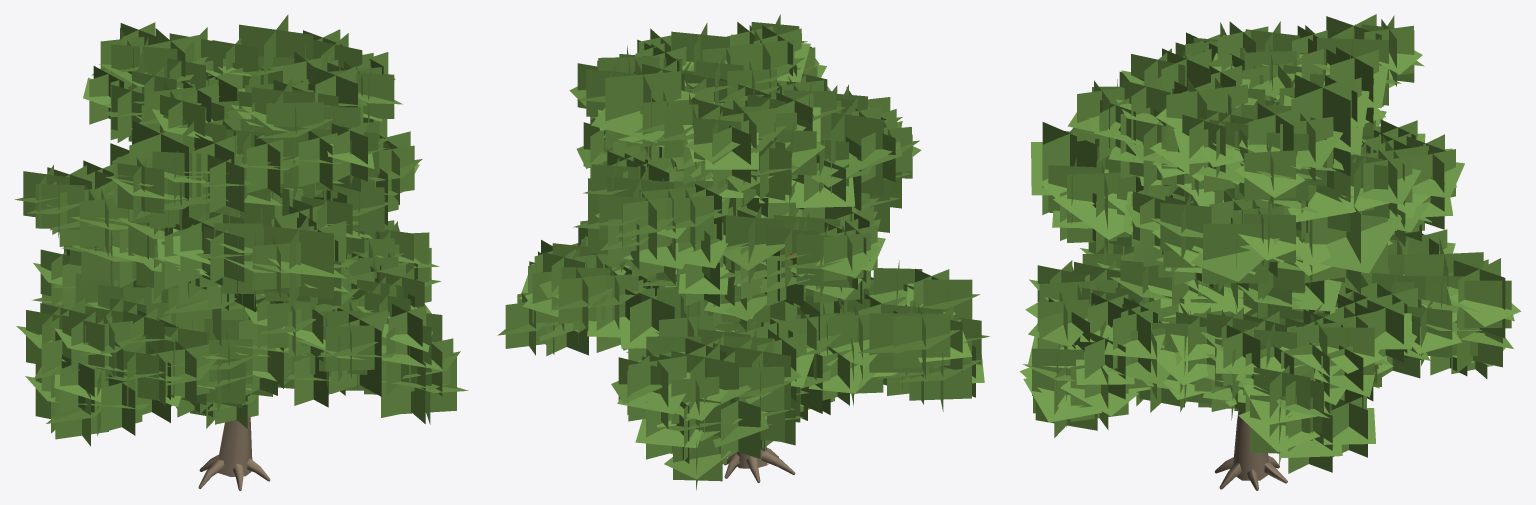
The model's file is pommier_2_f2_jeu.glb.
3 renders of one model, left to right at view 1: azimuth 30°, elevation 25°; view 2: azimuth 150°, elevation 25°; view 3: azimuth 270°, elevation 25°, orthographic. The views are drawn at different scales.
Visible parts, largest first — view 1: Pommier_T2_f2_Leger; view 2: Pommier_T2_f2_Leger; view 3: Pommier_T2_f2_Leger.
Boxes of the visible parts, x1,y1,x2,y2 form: Pommier_T2_f2_Leger: [15, 14, 468, 490]; Pommier_T2_f2_Leger: [497, 14, 989, 490]; Pommier_T2_f2_Leger: [1020, 14, 1521, 490].
Size of the model in its own units: 6.1 by 5.49 by 5.75.
